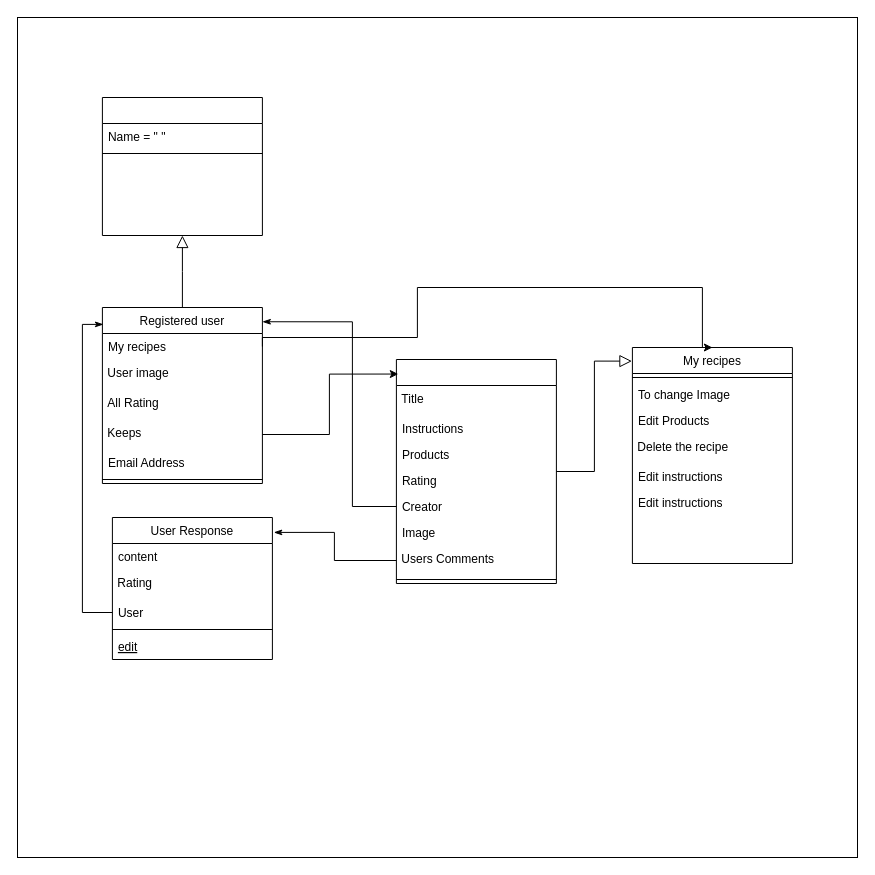
Image size: 875x875. Some labels were removed from this diagram. Here are the shapes that lost their labels. From the top down, the box of each, then its label:
(101, 96, 262, 236): Guest
(395, 358, 556, 584): Recipe
